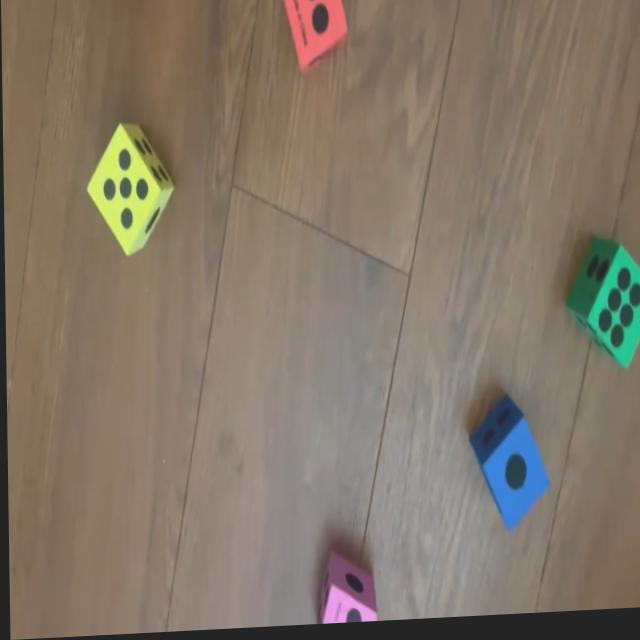blue_block: (467, 400, 548, 536)
red_block: (280, 0, 346, 75)
